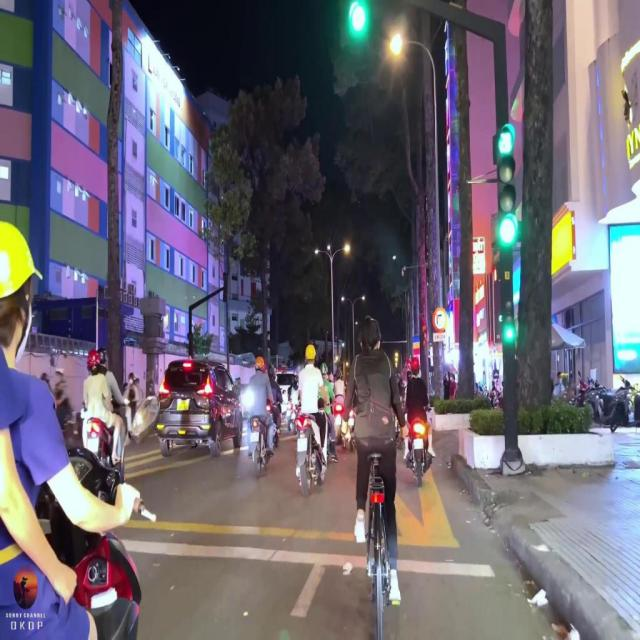cam_re_phai: (432, 307, 448, 332)
khac: (433, 332, 447, 342)
